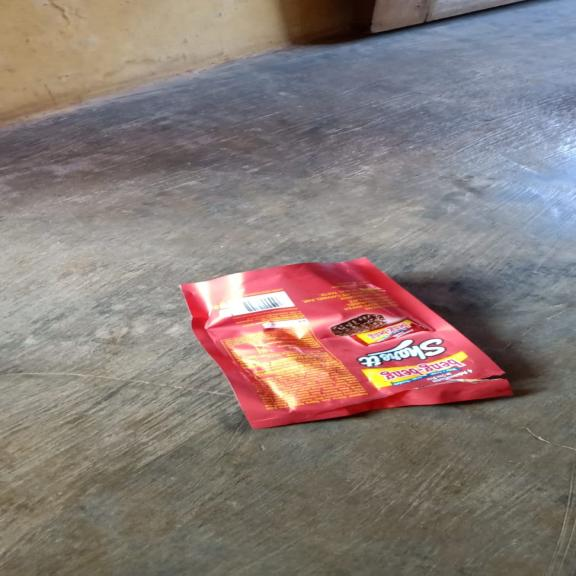Plastik: (180, 257, 521, 430)
